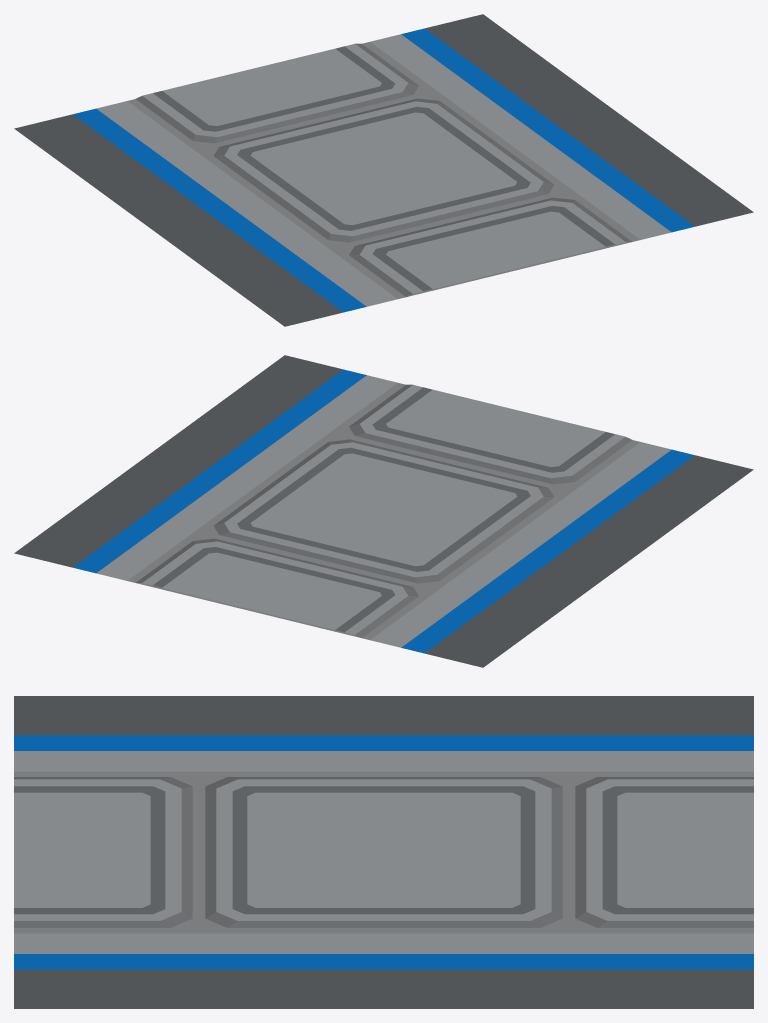
File: Floor_type_B_032.002.fbx
3 views of the same model, one above another, from view 1: azimuth 30°, elevation 25°; view 2: azimuth 150°, elevation 25°; view 3: azimuth 270°, elevation 25° (orthographic). The views are drawn at different scales.
Parts seen in each view (by area): view 1: Floor_type_B_032.002; view 2: Floor_type_B_032.002; view 3: Floor_type_B_032.002.
Boxes of the visible parts, x1,y1,x2,y2 form: Floor_type_B_032.002: [14, 14, 753, 326]; Floor_type_B_032.002: [14, 355, 753, 667]; Floor_type_B_032.002: [14, 696, 753, 1008].
Size of the model in its own units: 400 by 400 by 1.34.
